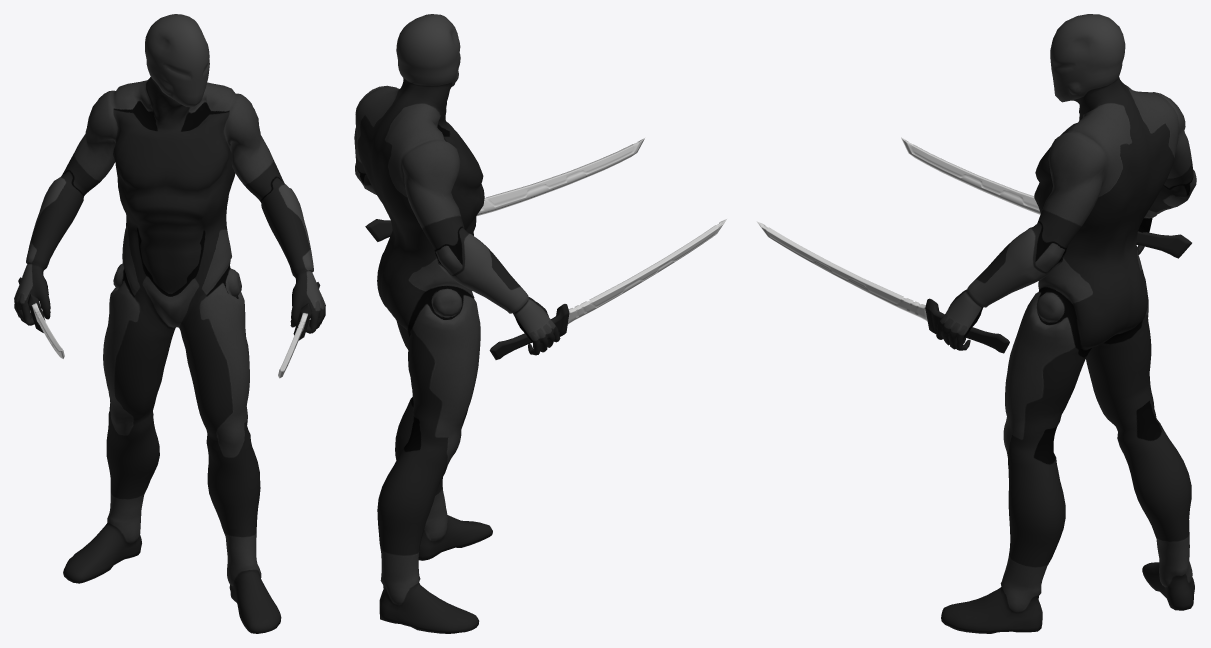
3 renders of one model, left to right at view 1: azimuth 30°, elevation 25°; view 2: azimuth 150°, elevation 25°; view 3: azimuth 270°, elevation 25°, orthographic. The views are drawn at different scales.
Parts seen in each view (by area): view 1: Cyborg_Ninja_Killer, Sword_l, Sword_l001; view 2: Cyborg_Ninja_Killer, Sword_l001, Sword_l; view 3: Cyborg_Ninja_Killer, Sword_l, Sword_l001.
Part boxes in pixels (<box>): Cyborg_Ninja_Killer: <box>14,14,325,633</box>; Sword_l: <box>278,282,320,378</box>; Sword_l001: <box>18,277,64,358</box>; Cyborg_Ninja_Killer: <box>354,14,560,633</box>; Sword_l001: <box>489,219,726,359</box>; Sword_l: <box>365,138,644,241</box>; Cyborg_Ninja_Killer: <box>936,14,1196,633</box>; Sword_l: <box>756,221,1009,353</box>; Sword_l001: <box>901,137,1191,258</box>.
Bounding box in the file's own units: 104 × 182 × 123.
2 materials, 2 textured.
